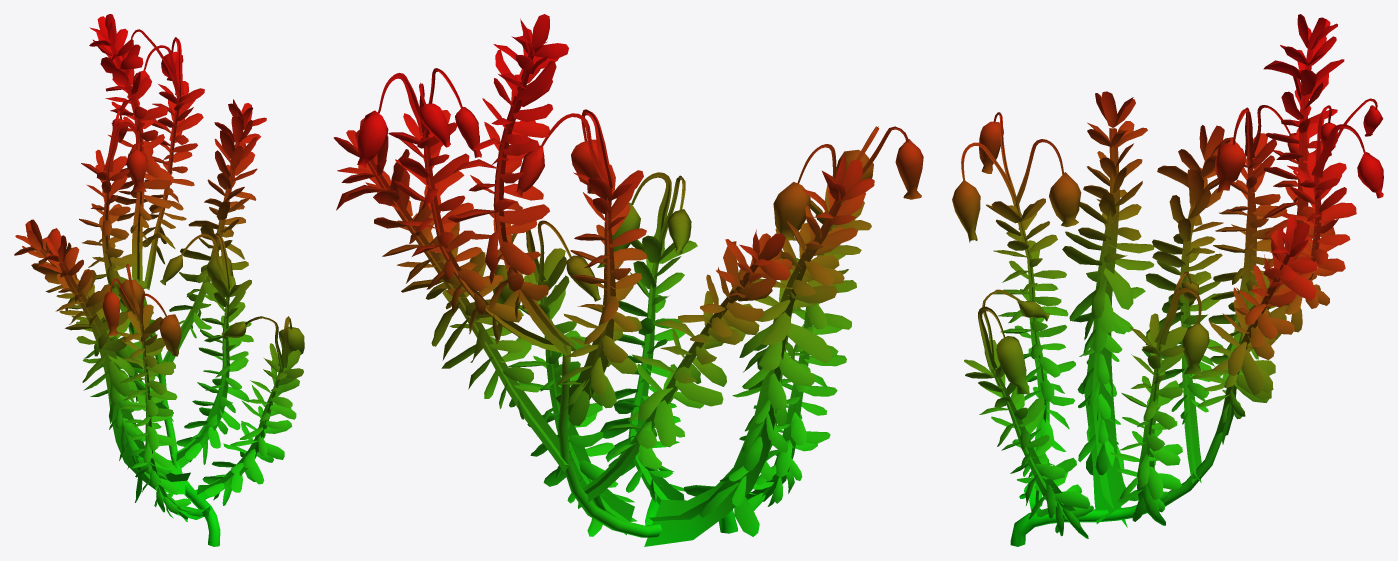
Rendered from Var6_LOD0.fbx.
3 renders of one model, left to right at view 1: azimuth 30°, elevation 25°; view 2: azimuth 150°, elevation 25°; view 3: azimuth 270°, elevation 25°, orthographic. The views are drawn at different scales.
Parts seen in each view (by area): view 1: _d30a_Var6_LOD0; view 2: _d30a_Var6_LOD0; view 3: _d30a_Var6_LOD0.
Boxes of the visible parts, x1,y1,x2,y2 form: _d30a_Var6_LOD0: (14,14,304,546); _d30a_Var6_LOD0: (333,14,923,546); _d30a_Var6_LOD0: (952,14,1383,546).
Size of the model in its own units: 15.99 by 22.91 by 16.68.
